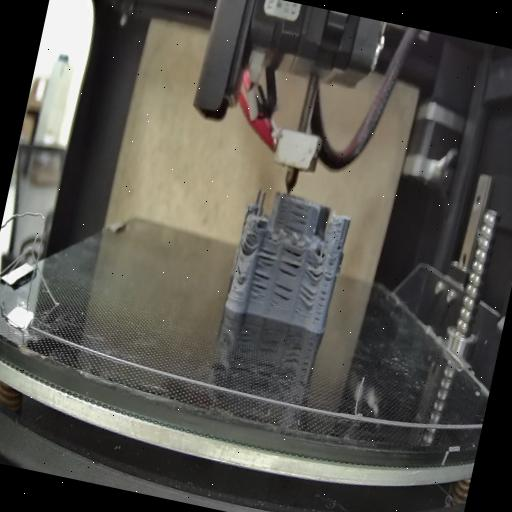cracks: (313, 258, 336, 324), (274, 243, 304, 279), (283, 202, 311, 234), (267, 280, 294, 312), (246, 268, 270, 300), (302, 260, 324, 288), (254, 243, 278, 268), (296, 282, 318, 308), (240, 234, 254, 256), (233, 262, 245, 276), (335, 234, 344, 252)
